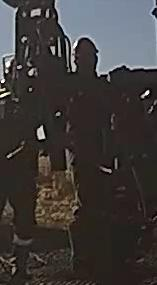helmet: (72, 37, 100, 59)
vest: (64, 66, 126, 173)
